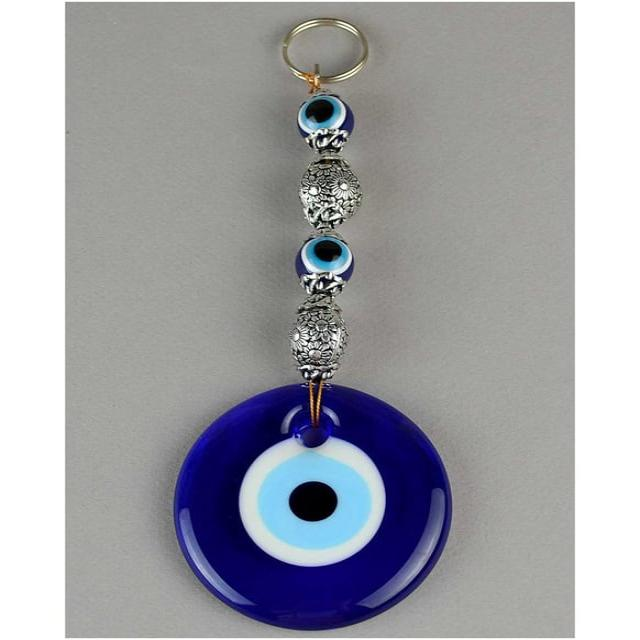Nazar-Boncugu: (174, 93, 454, 632)
